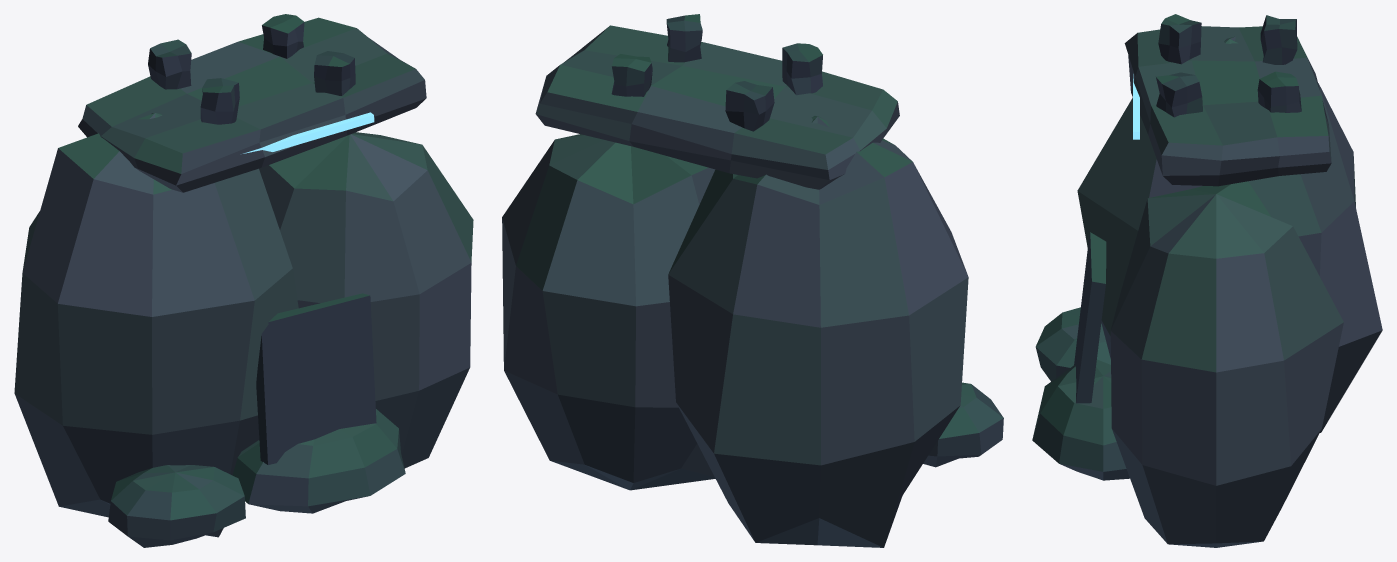
File: skill_rock_1.glb
3 renders of one model, left to right at view 1: azimuth 30°, elevation 25°; view 2: azimuth 150°, elevation 25°; view 3: azimuth 270°, elevation 25°, orthographic. The views are drawn at different scales.
Visible parts, largest first — view 1: skill_rock_1; view 2: skill_rock_1; view 3: skill_rock_1.
Part boxes in pixels (x1,y1,x2,y2): skill_rock_1: [14, 14, 473, 547]; skill_rock_1: [502, 14, 1003, 547]; skill_rock_1: [1032, 14, 1382, 547].
Bounding box in the file's own units: 3.81 × 3.79 × 2.64.
